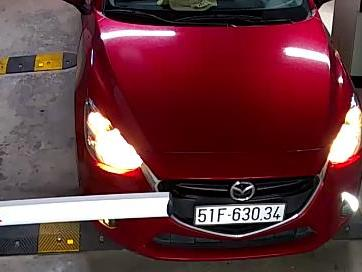number: (196, 203, 285, 227)
